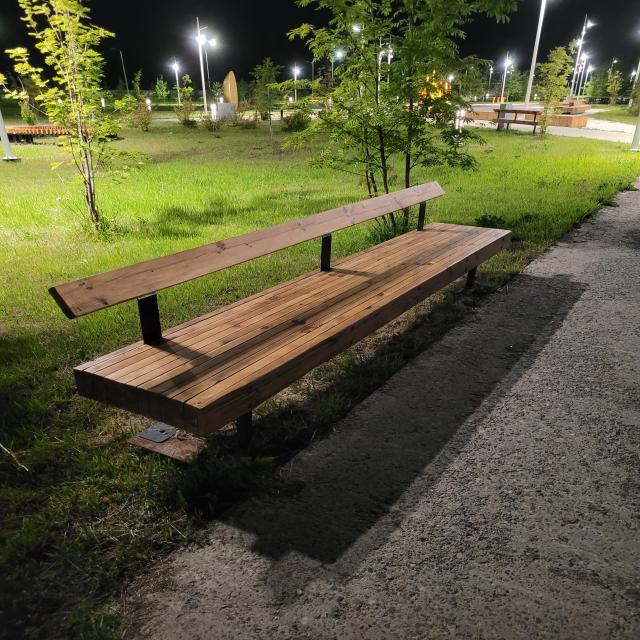Bench: (48, 181, 511, 438)
